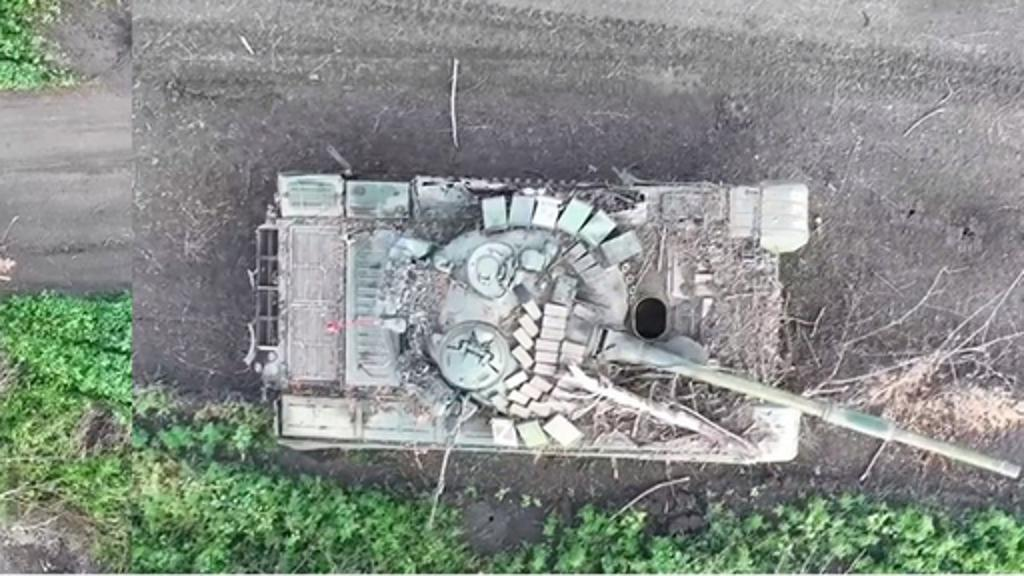TANK: (242, 154, 1022, 488)
